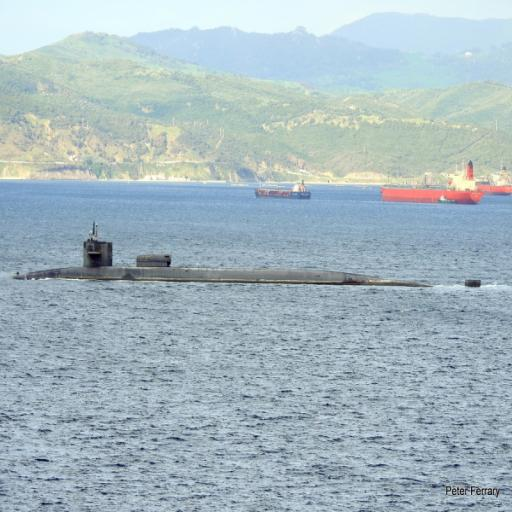submarine: (15, 220, 481, 288)
